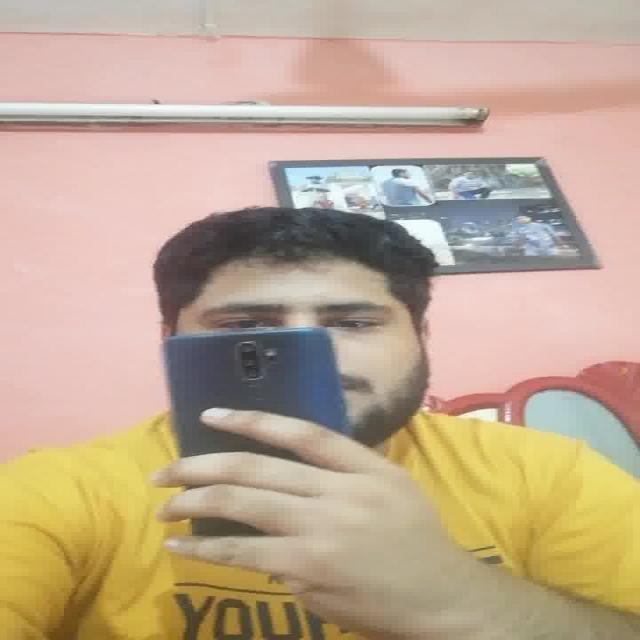Phone: (160, 327, 348, 463)
